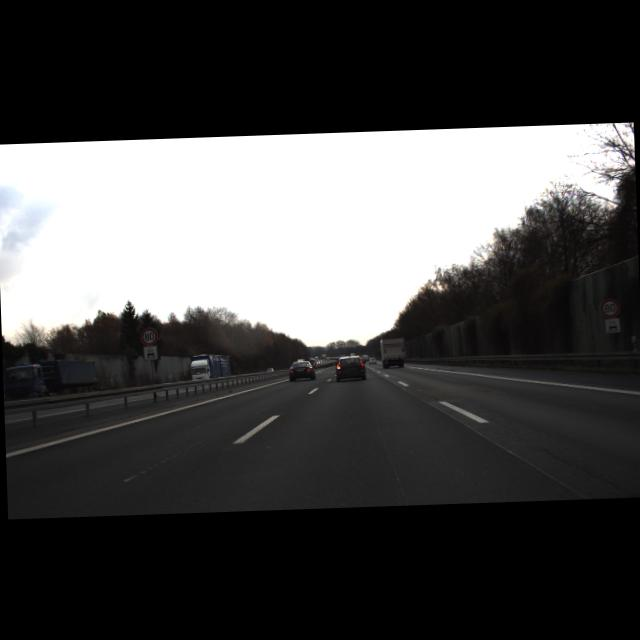prohibitory: (599, 296, 620, 318), (138, 326, 157, 344)
